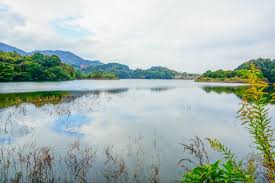lake: (6, 81, 270, 182)
mountain: (2, 46, 172, 81)
sky: (2, 4, 273, 57)
